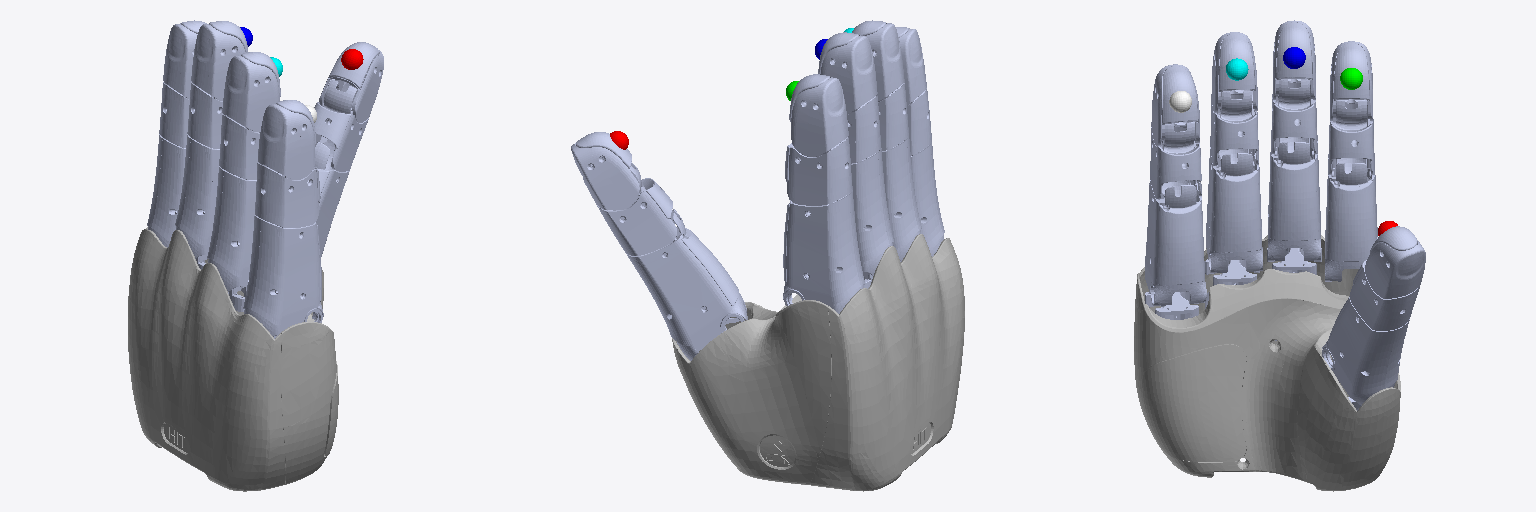
--- What the picture shows (computed from the rendered views, not written in the file) ---
Views: 3 orthographic renders of the robot side by side, from view 1: azimuth 30°, elevation 25°; view 2: azimuth 150°, elevation 25°; view 3: azimuth 270°, elevation 25°.
Robot: right_hand — 31 links, 30 joints (20 revolute, 10 fixed); root link right_hand_base_link; default pose: all joints at 0.
Visible links, largest first — view 1: right_hand_base_link, r_little_Link2, r_ring_Link2, r_mid_Link2, r_little_Link4, r_little_Link3, r_ring_Link4, r_thumb_Link3, r_index_Link2, r_mid_Link4, r_ring_Link3, r_thumb_Link2 (+7 smaller); view 2: right_hand_base_link, r_thumb_Link2, r_index_Link2, r_thumb_Link3, r_mid_Link2, r_index_Link4, r_index_Link3, r_ring_Link2, r_thumb_Link4, r_mid_Link4, r_little_Link2, r_ring_Link4 (+7 smaller); view 3: right_hand_base_link, r_little_Link2, r_ring_Link2, r_mid_Link2, r_index_Link2, r_thumb_Link2, r_little_Link3, r_ring_Link3, r_index_Link3, r_mid_Link3, r_thumb_Link4, r_thumb_Link3 (+12 smaller).
Link boxes in pixels (x1,y1,x2,y2): right_hand_base_link: [128, 227, 338, 491]; r_little_Link2: [243, 215, 323, 336]; r_ring_Link2: [207, 166, 256, 291]; r_mid_Link2: [175, 134, 219, 258]; r_little_Link4: [258, 104, 314, 179]; r_little_Link3: [255, 163, 320, 227]; r_ring_Link4: [222, 55, 279, 132]; r_thumb_Link3: [314, 79, 368, 171]; r_index_Link2: [147, 134, 185, 247]; r_mid_Link4: [191, 24, 245, 100]; r_ring_Link3: [219, 114, 259, 179]; r_thumb_Link2: [314, 134, 349, 256]; right_hand_base_link: [672, 234, 964, 491]; r_thumb_Link2: [627, 209, 747, 360]; r_index_Link2: [783, 190, 864, 313]; r_thumb_Link3: [597, 162, 676, 255]; r_mid_Link2: [851, 148, 893, 275]; r_index_Link4: [791, 77, 848, 156]; r_index_Link3: [785, 137, 852, 205]; r_ring_Link2: [882, 137, 921, 261]; r_thumb_Link4: [571, 143, 639, 209]; r_mid_Link4: [820, 35, 877, 113]; r_little_Link2: [911, 142, 944, 256]; r_ring_Link4: [866, 23, 904, 100]; right_hand_base_link: [1134, 235, 1400, 491]; r_little_Link2: [1145, 180, 1206, 305]; r_ring_Link2: [1206, 147, 1262, 272]; r_mid_Link2: [1268, 135, 1320, 260]; r_index_Link2: [1325, 154, 1377, 281]; r_thumb_Link2: [1322, 296, 1409, 405]; r_little_Link3: [1150, 122, 1201, 198]; r_ring_Link3: [1210, 90, 1258, 165]; r_index_Link3: [1328, 99, 1374, 174]; r_mid_Link3: [1271, 79, 1317, 153]; r_thumb_Link4: [1365, 238, 1425, 298]; r_thumb_Link3: [1350, 260, 1419, 330].
Bounding box of the posed robot: 0.1417 × 0.1276 × 0.2053 m (x, y, z).
30 mesh visuals loaded from 31 distinct referenced files (30 binary STL); not drawn: 1 (reference not matched to a file when rendering).

The robot description file, URDF, robot "right_hand":
<?xml version="1.0"?>
<robot name="right_hand">
<!-- 后续的link、joint等定义将在这里添加 -->
<link
    name="right_hand_base_link">
    <inertial>
      <origin
        xyz="0.00391160608884322 0.00448556353730908 0.0340831709778913"
        rpy="0 0 0" />
      <mass
        value="0.05804100477032" />
      <inertia
        ixx="8.91313181976465E-05"
        ixy="-6.04640652659731E-06"
        ixz="3.71821689962293E-06"
        iyy="5.49150596507255E-05"
        iyz="-2.70983228107086E-06"
        izz="5.61534622447738E-05" />
    </inertial>
    <visual>
      <origin
        xyz="0 0 0"
        rpy="0 0 0" />
      <geometry>
        <mesh
          filename="../meshes/right_hand_base_link.STL" />
      </geometry>
      <material
        name="">
        <color
          rgba="0.752941176470588 0.752941176470588 0.752941176470588 1" />
      </material>
    </visual>
    <collision>
      <origin
        xyz="0 0 0"
        rpy="0 0 0" />
      <geometry>
        <mesh
          filename="../meshes/right_hand_base_link.STL" />
      </geometry>
    </collision>
  </link>


  <link
    name="r_index_Link">
    <inertial>
      <origin
        xyz="1.40772269751482E-06 0.000694750558183271 -0.00514190536442029"
        rpy="0 0 0" />
      <mass
        value="0.00431903565449312" />
      <inertia
        ixx="1.36153741961389E-06"
        ixy="9.7926688192208E-11"
        ixz="4.65697331197809E-12"
        iyy="2.52419403692596E-07"
        iyz="-1.32210382096263E-07"
        izz="1.38757776970107E-06" />
    </inertial>
    <visual>
      <origin
        xyz="0 0 0"
        rpy="0 0 0" />
      <geometry>
        <mesh
          filename="../meshes/r_index_Link.STL" />
      </geometry>
      <material
        name="">
        <color
          rgba="0.752941176470588 0.752941176470588 0.752941176470588 1" />
      </material>
    </visual>
    <collision>
      <origin
        xyz="0 0 0"
        rpy="0 0 0" />
      <geometry>
        <mesh
          filename="../meshes/r_index_Link.STL" />
      </geometry>
    </collision>
  </link>
  <joint
    name="index_joint_Link_r"
    type="fixed">
    <origin
      xyz="-0.0103822553151064 0.0375051922308144 0.0613093829703847"
      rpy="1.65806266442309 0 1.5707963267949" />
    <parent
      link="right_hand_base_link" />
    <child
      link="r_index_Link" />
    <axis
      xyz="0 0 0" />
  </joint>
  <link
    name="r_index_Link1">
    <inertial>
      <origin
        xyz="3.36279767296221E-08 -0.000949758546197055 -0.00979761945346892"
        rpy="0 0 0" />
      <mass
        value="0.000753716554216806" />
      <inertia
        ixx="4.38605309747152E-08"
        ixy="-3.33324396352921E-14"
        ixz="-1.25779733473156E-13"
        iyy="9.49698620695859E-08"
        iyz="-2.45771565297734E-09"
        izz="5.93127496812786E-08" />
    </inertial>
    <visual>
      <origin
        xyz="0 0 0"
        rpy="0 0 0" />
      <geometry>
        <mesh
          filename="../meshes/r_index_Link1.STL" />
      </geometry>
      <material
        name="">
        <color
          rgba="0.792156862745098 0.819607843137255 0.933333333333333 1" />
      </material>
    </visual>
    <collision>
      <origin
        xyz="0 0 0"
        rpy="0 0 0" />
      <geometry>
        <mesh
          filename="../meshes/r_index_Link1.STL" />
      </geometry>
    </collision>
  </link>
  <joint
    name="index_joint_Link_r1"
    type="revolute">
    <origin
      xyz="0 0.02627 0.012021"
      rpy="0 0 0" />
    <parent
      link="r_index_Link" />
    <child
      link="r_index_Link1" />
    <axis
      xyz="0 0 -1" />
    <limit
      lower="-0.35"
      upper="0.35"
      effort="0"
      velocity="0" />
  </joint>
  <link
    name="r_index_Link2">
    <inertial>
      <origin
        xyz="0.024856566164087 -0.00646869536322205 -6.14075742498207E-05"
        rpy="0 0 0" />
      <mass
        value="0.00670640144971691" />
      <inertia
        ixx="2.74479460170706E-07"
        ixy="-5.34656147943623E-08"
        ixz="1.86377740407272E-09"
        iyy="1.64928295568456E-06"
        iyz="-4.93690159001492E-10"
        izz="1.53795924684832E-06" />
    </inertial>
    <visual>
      <origin
        xyz="0 0 0"
        rpy="0 0 0" />
      <geometry>
        <mesh
          filename="../meshes/r_index_Link2.STL" />
      </geometry>
      <material
        name="">
        <color
          rgba="0.792156862745098 0.819607843137255 0.933333333333333 1" />
      </material>
    </visual>
    <collision>
      <origin
        xyz="0 0 0"
        rpy="0 0 0" />
      <geometry>
        <mesh
          filename="../meshes/r_index_Link2.STL" />
      </geometry>
    </collision>
  </link>
  <joint
    name="index_joint_Link_r2"
    type="revolute">
    <origin
      xyz="0 0 0"
      rpy="1.5708 0.085664 1.5708" />
    <parent
      link="r_index_Link1" />
    <child
      link="r_index_Link2" />
    <axis
      xyz="0 0 1" />
    <limit
      lower="0"
      upper="1.48"
      effort="0"
      velocity="0" />
  </joint>
  <link
    name="r_index_Link3">
    <inertial>
      <origin
        xyz="0.0118307803985283 -0.00648694607574674 -0.000796162578510826"
        rpy="0 0 0" />
      <mass
        value="0.00348556483804973" />
      <inertia
        ixx="9.92805057586549E-08"
        ixy="2.41258690952191E-08"
        ixz="-5.74560102307089E-09"
        iyy="3.52536489398498E-07"
        iyz="1.97293094024626E-10"
        izz="3.29212834878614E-07" />
    </inertial>
    <visual>
      <origin
        xyz="0 0 0"
        rpy="0 0 0" />
      <geometry>
        <mesh
          filename="../meshes/r_index_Link3.STL" />
      </geometry>
      <material
        name="">
        <color
          rgba="0.792156862745098 0.819607843137255 0.933333333333333 1" />
      </material>
    </visual>
    <collision>
      <origin
        xyz="0 0 0"
        rpy="0 0 0" />
      <geometry>
        <mesh
          filename="../meshes/r_index_Link3.STL" />
      </geometry>
    </collision>
  </link>
  <joint
    name="index_joint_Link_r3"
    type="revolute">
    <origin
      xyz="0.051996 -0.00027708 0"
      rpy="0 0 0.085664" />
    <parent
      link="r_index_Link2" />
    <child
      link="r_index_Link3" />
    <axis
      xyz="0 0 1" />
    <limit
      lower="0"
      upper="1.4"
      effort="0"
      velocity="0" />
  </joint>
  <link
    name="r_index_Link4">
    <inertial>
      <origin
        xyz="0.0113404372697323 -0.00167958619198047 -0.000220244239396365"
        rpy="0 0 0" />
      <mass
        value="0.00286590326282756" />
      <inertia
        ixx="1.43022179569981E-07"
        ixy="1.98729010946548E-08"
        ixz="-6.94917459018936E-09"
        iyy="2.98349815549781E-07"
        iyz="5.48901986574559E-10"
        izz="2.23361577561817E-07" />
    </inertial>
    <visual>
      <origin
        xyz="0 0 0"
        rpy="0 0 0" />
      <geometry>
        <mesh
          filename="../meshes/r_index_Link4.STL" />
      </geometry>
      <material
        name="">
        <color
          rgba="0.792156862745098 0.819607843137255 0.933333333333333 1" />
      </material>
    </visual>
    <collision>
      <origin
        xyz="0 0 0"
        rpy="0 0 0" />
      <geometry>
        <mesh
          filename="../meshes/r_index_Link4.STL" />
      </geometry>
    </collision>
  </link>
  <joint
    name="index_joint_Link_r4"
    type="revolute">
    <origin
      xyz="0.026928 -0.0076747 0"
      rpy="0 0 0" />
    <parent
      link="r_index_Link3" />
    <child
      link="r_index_Link4" />
    <axis
      xyz="0 0 1" />
    <limit
      lower="0"
      upper="1.4"
      effort="0"
      velocity="0" />
  </joint>
  <link
    name="r_index_Link5">
    <inertial>
      <origin
        xyz="0.00181569960563305 -0.00401759470056604 -1.73942399137039E-06"
        rpy="0 0 0" />
      <mass
        value="0.000450710583141384" />
      <inertia
        ixx="1.88812291416615E-08"
        ixy="1.04173783141532E-08"
        ixz="1.05243210031501E-12"
        iyy="2.21563214884092E-08"
        iyz="-4.53245467007608E-12"
        izz="2.55181321608876E-08" />
    </inertial>
    <visual>
      <origin
        xyz="0 0 0"
        rpy="0 0 0" />
      <geometry>
        <mesh
          filename="../meshes/r_index_Link5.STL" />
      </geometry>
      <material
        name="">
        <color
          rgba="0.792156862745098 0.819607843137255 0.933333333333333 1" />
      </material>
    </visual>

    <!-- Add fingertip sphere -->
    <visual>
      <origin xyz="0 0 0" rpy="0 0 0" /> <!-- Positioning the sphere slightly from the tip -->
      <geometry>
        <sphere radius="0.005" /> <!-- Radius of the sphere, 5mm -->
      </geometry>
      <material name="green">
        <color rgba="0 1 0 1" /> <!-- Red color for the fingertip -->
      </material>
    </visual>
  
    <collision>
      <origin
        xyz="0 0 0"
        rpy="0 0 0" />
      <geometry>
        <mesh
          filename="../meshes/r_index_Link5.STL" />
      </geometry>
    </collision>
  </link>
  <joint
    name="index_joint_Link_r5"
    type="fixed">
    <origin
      xyz="0.015969 0.0093937 0"
      rpy="0 0 0" />
    <parent
      link="r_index_Link4" />
    <child
      link="r_index_Link5" />
    <axis
      xyz="0 0 0" />
  </joint>
  <link
    name="r_mid_Link">
    <inertial>
      <origin
        xyz="1.40734689794975E-06 0.000694753407640344 -0.00514190377968304"
        rpy="0 0 0" />
      <mass
        value="0.00431903652366697" />
      <inertia
        ixx="1.36153765292187E-06"
        ixy="9.79511055730686E-11"
        ixz="4.67011748284453E-12"
        iyy="2.52419454902548E-07"
        iyz="-1.32210483173002E-07"
        izz="1.38757795837307E-06" />
    </inertial>
    <visual>
      <origin
        xyz="0 0 0"
        rpy="0 0 0" />
      <geometry>
        <mesh
          filename="../meshes/r_mid_Link.STL" />
      </geometry>
      <material
        name="">
        <color
          rgba="0.792156862745098 0.819607843137255 0.933333333333333 1" />
      </material>
    </visual>
    <collision>
      <origin
        xyz="0 0 0"
        rpy="0 0 0" />
      <geometry>
        <mesh
          filename="../meshes/r_mid_Link.STL" />
      </geometry>
    </collision>
  </link>
  <joint
    name="mid_joint_Link_r"
    type="fixed">
    <origin
      xyz="-0.0103822553151064 0.0125051922308144 0.0713093829703847"
      rpy="1.65806266442309 0 1.5707963267949" />
    <parent
      link="right_hand_base_link" />
    <child
      link="r_mid_Link" />
    <axis
      xyz="0 0 0" />
  </joint>
  <link
    name="r_mid_Link1">
    <inertial>
      <origin
        xyz="3.36374291615149E-08 -0.000949758546365281 -0.00979761945009709"
        rpy="0 0 0" />
      <mass
        value="0.000753716553118287" />
      <inertia
        ixx="4.386053097916E-08"
        ixy="-3.32943076710991E-14"
        ixz="-1.25753824577688E-13"
        iyy="9.49698621336344E-08"
        iyz="-2.45771565647132E-09"
        izz="5.93127497638759E-08" />
    </inertial>
    <visual>
      <origin
        xyz="0 0 0"
        rpy="0 0 0" />
      <geometry>
        <mesh
          filename="../meshes/r_mid_Link1.STL" />
      </geometry>
      <material
        name="">
        <color
          rgba="0.792156862745098 0.819607843137255 0.933333333333333 1" />
      </material>
    </visual>
    <collision>
      <origin
        xyz="0 0 0"
        rpy="0 0 0" />
      <geometry>
        <mesh
          filename="../meshes/r_mid_Link1.STL" />
      </geometry>
    </collision>
  </link>
  <joint
    name="mid_joint_Link_r1"
    type="revolute">
    <origin
      xyz="0 0.02627 0.012021"
      rpy="0 0 0" />
    <parent
      link="r_mid_Link" />
    <child
      link="r_mid_Link1" />
    <axis
      xyz="0 0 -1" />
    <limit
      lower="-0.35"
      upper="0.35"
      effort="0"
      velocity="0" />
  </joint>
  <link
    name="r_mid_Link2">
    <inertial>
      <origin
        xyz="0.0248565660487101 -0.0064686956840581 -6.14072578129787E-05"
        rpy="0 0 0" />
      <mass
        value="0.00670640167039344" />
      <inertia
        ixx="2.7447947098352E-07"
        ixy="-5.34656206804511E-08"
        ixz="1.86377693304953E-09"
        iyy="1.64928295941372E-06"
        iyz="-4.9369088910234E-10"
        izz="1.53795926127141E-06" />
    </inertial>
    <visual>
      <origin
        xyz="0 0 0"
        rpy="0 0 0" />
      <geometry>
        <mesh
          filename="../meshes/r_mid_Link2.STL" />
      </geometry>
      <material
        name="">
        <color
          rgba="0.792156862745098 0.819607843137255 0.933333333333333 1" />
      </material>
    </visual>
    <collision>
      <origin
        xyz="0 0 0"
        rpy="0 0 0" />
      <geometry>
        <mesh
          filename="../meshes/r_mid_Link2.STL" />
      </geometry>
    </collision>
  </link>
  <joint
    name="mid_joint_Link_r2"
    type="revolute">
    <origin
      xyz="0 0 0"
      rpy="1.5708 0.085664 1.5708" />
    <parent
      link="r_mid_Link1" />
    <child
      link="r_mid_Link2" />
    <axis
      xyz="0 0 1" />
    <limit
      lower="0"
      upper="1.48"
      effort="0"
      velocity="0" />
  </joint>
  <link
    name="r_mid_Link3">
    <inertial>
      <origin
        xyz="0.0118307806735845 -0.00648694588441903 -0.00079616260307093"
        rpy="0 0 0" />
      <mass
        value="0.00348556469916572" />
      <inertia
        ixx="9.92805063224001E-08"
        ixy="2.41258687642837E-08"
        ixz="-5.74560039016165E-09"
        iyy="3.52536482867362E-07"
        iyz="1.97293601740165E-10"
        izz="3.29212828031843E-07" />
    </inertial>
    <visual>
      <origin
        xyz="0 0 0"
        rpy="0 0 0" />
      <geometry>
        <mesh
          filename="../meshes/r_mid_Link3.STL" />
      </geometry>
      <material
        name="">
        <color
          rgba="0.792156862745098 0.819607843137255 0.933333333333333 1" />
      </material>
    </visual>
    <collision>
      <origin
        xyz="0 0 0"
        rpy="0 0 0" />
      <geometry>
        <mesh
          filename="../meshes/r_mid_Link3.STL" />
      </geometry>
    </collision>
  </link>
  <joint
    name="mid_joint_Link_r3"
    type="revolute">
    <origin
      xyz="0.051996 -0.00027708 0"
      rpy="0 0 0.085664" />
    <parent
      link="r_mid_Link2" />
    <child
      link="r_mid_Link3" />
    <axis
      xyz="0 0 1" />
    <limit
      lower="0"
      upper="1.4"
      effort="0"
      velocity="0" />
  </joint>
  <link
    name="r_mid_Link4">
    <inertial>
      <origin
        xyz="0.0113404372697324 -0.00167958619198134 -0.000220244239396788"
        rpy="0 0 0" />
      <mass
        value="0.00286590326282753" />
      <inertia
        ixx="1.43022179570016E-07"
        ixy="1.98729010947097E-08"
        ixz="-6.94917459018936E-09"
        iyy="2.98349815549752E-07"
        iyz="5.48901986578988E-10"
        izz="2.23361577561831E-07" />
    </inertial>
    <visual>
      <origin
        xyz="0 0 0"
        rpy="0 0 0" />
      <geometry>
        <mesh
          filename="../meshes/r_mid_Link4.STL" />
      </geometry>
      <material
        name="">
        <color
          rgba="0.792156862745098 0.819607843137255 0.933333333333333 1" />
      </material>
    </visual>
    <collision>
      <origin
        xyz="0 0 0"
        rpy="0 0 0" />
      <geometry>
        <mesh
          filename="../meshes/r_mid_Link4.STL" />
      </geometry>
    </collision>
  </link>
  <joint
    name="mid_joint_Link_r4"
    type="revolute">
    <origin
      xyz="0.026928 -0.0076747 0"
      rpy="0 0 0" />
    <parent
      link="r_mid_Link3" />
    <child
      link="r_mid_Link4" />
    <axis
      xyz="0 0 1" />
    <limit
      lower="0"
      upper="1.4"
      effort="0"
      velocity="0" />
  </joint>
  <link
    name="r_mid_Link5">
    <inertial>
      <origin
        xyz="0.00181569960563313 -0.00401759470056587 -1.7394239911761E-06"
        rpy="0 0 0" />
      <mass
        value="0.000450710583141373" />
      <inertia
        ixx="1.88812291416604E-08"
        ixy="1.04173783141527E-08"
        ixz="1.05243210055251E-12"
        iyy="2.21563214884085E-08"
        iyz="-4.53245467039529E-12"
        izz="2.55181321608863E-08" />
    </inertial>
    <visual>
      <origin
        xyz="0 0 0"
        rpy="0 0 0" />
      <geometry>
        <mesh
          filename="../meshes/r_mid_Link5.STL" />
      </geometry>
      <material
        name="">
        <color
          rgba="0.792156862745098 0.819607843137255 0.933333333333333 1" />
      </material>
    </visual>

    <!-- Add fingertip sphere -->
    <visual>
      <origin xyz="0 0 0" rpy="0 0 0" /> <!-- Positioning the sphere slightly from the tip -->
      <geometry>
        <sphere radius="0.005" /> <!-- Radius of the sphere, 5mm -->
      </geometry>
      <material name="blue">
        <color rgba="0 0 1 1" /> <!-- Red color for the fingertip -->
      </material>
    </visual>

    <collision>
      <origin
        xyz="0 0 0"
        rpy="0 0 0" />
      <geometry>
        <mesh
          filename="../meshes/r_mid_Link5.STL" />
      </geometry>
    </collision>
  </link>
  <joint
    name="mid_joint_Link_r5"
    type="fixed">
    <origin
      xyz="0.0159685314889383 0.00939365856358672 0"
      rpy="0 0 0" />
    <parent
      link="r_mid_Link4" />
    <child
      link="r_mid_Link5" />
    <axis
      xyz="0 0 0" />
  </joint>
  <link
    name="r_ring_Link">
    <inertial>
      <origin
        xyz="1.4081463746568E-06 0.000694751167352098 -0.00514190259280253"
        rpy="0 0 0" />
      <mass
        value="0.00431903596206097" />
      <inertia
        ixx="1.36153753422029E-06"
        ixy="9.78712674448195E-11"
        ixz="4.71086666899664E-12"
        iyy="2.52419494869348E-07"
        iyz="-1.3221055399997E-07"
        izz="1.38757778737741E-06" />
    </inertial>
    <visual>
      <origin
        xyz="0 0 0"
        rpy="0 0 0" />
      <geometry>
        <mesh
          filename="../meshes/r_ring_Link.STL" />
      </geometry>
      <material
        name="">
        <color
          rgba="0.792156862745098 0.819607843137255 0.933333333333333 1" />
      </material>
    </visual>
    <collision>
      <origin
        xyz="0 0 0"
        rpy="0 0 0" />
      <geometry>
        <mesh
          filename="../meshes/r_ring_Link.STL" />
      </geometry>
    </collision>
  </link>
  <joint
    name="ring_joint_Link_r"
    type="fixed">
    <origin
      xyz="-0.0091687 -0.014221 0.066309"
      rpy="1.6581 0 1.6582" />
    <parent
      link="right_hand_base_link" />
    <child
      link="r_ring_Link" />
    <axis
      xyz="0 0 0" />
  </joint>
  <link
    name="r_ring_Link1">
    <inertial>
      <origin
        xyz="2.37358247223707E-08 -0.000949758224484995 -0.00979761991811526"
        rpy="0 0 0" />
      <mass
        value="0.000753716414191309" />
      <inertia
        ixx="4.38605328503131E-08"
        ixy="-2.46710673237958E-14"
        ixz="-1.01364693007023E-13"
        iyy="9.49698617614435E-08"
        iyz="-2.45771601251918E-09"
        izz="5.93127477633958E-08" />
    </inertial>
    <visual>
      <origin
        xyz="0 0 0"
        rpy="0 0 0" />
      <geometry>
        <mesh
          filename="../meshes/r_ring_Link1.STL" />
      </geometry>
      <material
        name="">
        <color
          rgba="0.792156862745098 0.819607843137255 0.933333333333333 1" />
      </material>
    </visual>
    <collision>
      <origin
        xyz="0 0 0"
        rpy="0 0 0" />
      <geometry>
        <mesh
          filename="../meshes/r_ring_Link1.STL" />
      </geometry>
    </collision>
  </link>
  <joint
    name="ring_joint_Link_r1"
    type="revolute">
    <origin
      xyz="0 0.02627 0.012021"
      rpy="0 0 0" />
    <parent
      link="r_ring_Link" />
    <child
      link="r_ring_Link1" />
    <axis
      xyz="0 0 -1" />
    <limit
      lower="-0.35"
      upper="0.35"
      effort="0"
      velocity="0" />
  </joint>
  <link
    name="r_ring_Link2">
    <inertial>
      <origin
        xyz="0.0248566382390737 -0.00646877533874726 -6.12887386269856E-05"
        rpy="0 0 0" />
      <mass
        value="0.0067064348432748" />
      <inertia
        ixx="2.74476666323832E-07"
        ixy="-5.34726783492085E-08"
        ixz="1.86744926076536E-09"
        iyy="1.64928770846785E-06"
        iyz="-4.96366436099556E-10"
        izz="1.53796806986171E-06" />
    </inertial>
    <visual>
      <origin
        xyz="0 0 0"
        rpy="0 0 0" />
      <geometry>
        <mesh
          filename="../meshes/r_ring_Link2.STL" />
      </geometry>
      <material
        name="">
        <color
          rgba="0.792156862745098 0.819607843137255 0.933333333333333 1" />
      </material>
    </visual>
    <collision>
      <origin
        xyz="0 0 0"
        rpy="0 0 0" />
      <geometry>
        <mesh
          filename="../meshes/r_ring_Link2.STL" />
      </geometry>
    </collision>
  </link>
  <joint
    name="ring_joint_Link_r2"
    type="revolute">
    <origin
      xyz="0 0 0"
      rpy="1.5708 0.085664 1.5708" />
    <parent
      link="r_ring_Link1" />
    <child
      link="r_ring_Link2" />
    <axis
      xyz="0 0 1" />
    <limit
      lower="0"
      upper="1.48"
      effort="0"
      velocity="0" />
  </joint>
  <link
    name="r_ring_Link3">
    <inertial>
      <origin
        xyz="0.0118307298664946 -0.00648704260697541 -0.000796133654823936"
        rpy="0 0 0" />
      <mass
        value="0.00348561291517494" />
      <inertia
        ixx="9.92834585384601E-08"
        ixy="2.41267862410674E-08"
        ixz="-5.74508054907317E-09"
        iyy="3.52541207017489E-07"
        iyz="1.97002319666101E-10"
        izz="3.29215822821692E-07" />
    </inertial>
    <visual>
      <origin
        xyz="0 0 0"
        rpy="0 0 0" />
      <geometry>
        <mesh
          filename="../meshes/r_ring_Link3.STL" />
      </geometry>
      <material
        name="">
        <color
          rgba="0.792156862745098 0.819607843137255 0.933333333333333 1" />
      </material>
    </visual>
    <collision>
      <origin
        xyz="0 0 0"
        rpy="0 0 0" />
      <geometry>
        <mesh
          filename="../meshes/r_ring_Link3.STL" />
      </geometry>
    </collision>
  </link>
  <joint
    name="ring_joint_Link_r3"
    type="revolute">
    <origin
      xyz="0.051996 -0.00027708 0"
      rpy="0 0 0.085664" />
    <parent
      link="r_ring_Link2" />
    <child
      link="r_ring_Link3" />
    <axis
      xyz="0 0 1" />
    <limit
      lower="0"
      upper="1.4"
      effort="0"
      velocity="0" />
  </joint>
  <link
    name="r_ring_Link4">
    <inertial>
      <origin
        xyz="0.0113403904097355 -0.00167959830494618 -0.000220240319862355"
        rpy="0 0 0" />
      <mass
        value="0.00286588485581286" />
      <inertia
        ixx="1.43021809770463E-07"
        ixy="1.98728275044481E-08"
        ixz="-6.94924248279532E-09"
        iyy="2.98348498308951E-07"
        iyz="5.4897755005092E-10"
        izz="2.23359872648577E-07" />
    </inertial>
    <visual>
      <origin
        xyz="0 0 0"
        rpy="0 0 0" />
      <geometry>
        <mesh
          filename="../meshes/r_ring_Link4.STL" />
      </geometry>
      <material
        name="">
        <color
          rgba="0.792156862745098 0.819607843137255 0.933333333333333 1" />
      </material>
    </visual>
    <collision>
      <origin
        xyz="0 0 0"
        rpy="0 0 0" />
      <geometry>
        <mesh
          filename="../meshes/r_ring_Link4.STL" />
      </geometry>
    </collision>
  </link>
  <joint
    name="ring_joint_Link_r4"
    type="revolute">
    <origin
      xyz="0.026928 -0.0076747 0"
      rpy="0 0 0" />
    <parent
      link="r_ring_Link3" />
    <child
      link="r_ring_Link4" />
    <axis
      xyz="0 0 1" />
    <limit
      lower="0"
      upper="1.4"
      effort="0"
      velocity="0" />
  </joint>
  <link
    name="r_ring_Link5">
    <inertial>
      <origin
        xyz="0.00181570080619201 -0.00401778531920312 -1.80091041671049E-06"
        rpy="0 0 0" />
      <mass
        value="0.000450714747271973" />
      <inertia
        ixx="1.88820708482565E-08"
        ixy="1.04176728214793E-08"
        ixz="1.5299220221432E-12"
        iyy="2.21560954057769E-08"
        iyz="-4.68235050476128E-12"
        izz="2.55189481762222E-08" />
    </inertial>
    <visual>
      <origin
        xyz="0 0 0"
        rpy="0 0 0" />
      <geometry>
        <mesh
          filename="../meshes/r_ring_Link5.STL" />
      </geometry>
      <material
        name="">
        <color
          rgba="0.792156862745098 0.819607843137255 0.933333333333333 1" />
      </material>
    </visual>

    <!-- Add fingertip sphere -->
    <visual>
      <origin xyz="0 0 0" rpy="0 0 0" /> <!-- Positioning the sphere slightly from the tip -->
      <geometry>
        <sphere radius="0.005" /> <!-- Radius of the sphere, 5mm -->
      </geometry>
      <material name="cyan">
        <color rgba="0 1 1 1" /> <!-- Red color for the fingertip -->
      </material>
    </visual>

    <collision>
      <origin
        xyz="0 0 0"
        rpy="0 0 0" />
      <geometry>
        <mesh
          filename="../meshes/r_ring_Link5.STL" />
      </geometry>
    </collision>
  </link>
  <joint
    name="ring_joint_Link_r5"
    type="fixed">
    <origin
      xyz="0.015968530891711 0.00939365572937095 0"
      rpy="0 0 0" />
    <parent
      link="r_ring_Link4" />
    <child
      link="r_ring_Link5" />
    <axis
      xyz="0 0 0" />
  </joint>
  <link
    name="r_little_Link">
    <inertial>
      <origin
        xyz="1.42050090018442E-06 0.000694714899473051 -0.00514189726990826"
        rpy="0 0 0" />
      <mass
        value="0.004319028054173" />
      <inertia
        ixx="1.36153454017162E-06"
        ixy="9.68833946461463E-11"
        ixz="4.84047453253449E-12"
        iyy="2.5241931490128E-07"
        iyz="-1.32210946895328E-07"
        izz="1.38757440201909E-06" />
    </inertial>
    <visual>
      <origin
        xyz="0 0 0"
        rpy="0 0 0" />
      <geometry>
        <mesh
          filename="../meshes/r_little_Link.STL" />
      </geometry>
      <material
        name="">
        <color
          rgba="0.792156862745098 0.819607843137255 0.933333333333333 1" />
      </material>
    </visual>
    <collision>
      <origin
        xyz="0 0 0"
        rpy="0 0 0" />
      <geometry>
        <mesh
          filename="../meshes/r_little_Link.STL" />
      </geometry>
    </collision>
  </link>
  <joint
    name="little_joint_Link_r"
    type="fixed">
    <origin
      xyz="-0.0056537 -0.040608 0.052309"
      rpy="1.6581 0 1.7453" />
    <parent
      link="right_hand_base_link" />
    <child
      link="r_little_Link" />
    <axis
      xyz="0 0 0" />
  </joint>
  <link
    name="r_little_Link1">
    <inertial>
      <origin
        xyz="2.15894949695539E-08 -0.000949758106968637 -0.00979761991353562"
        rpy="0 0 0" />
      <mass
        value="0.000753716389758328" />
      <inertia
        ixx="4.38605340572183E-08"
        ixy="-2.26679214914407E-14"
        ixz="-9.58623651606205E-14"
        iyy="9.49698625622802E-08"
        iyz="-2.45771620744386E-09"
        izz="5.93127473067216E-08" />
    </inertial>
    <visual>
      <origin
        xyz="0 0 0"
        rpy="0 0 0" />
      <geometry>
        <mesh
          filename="../meshes/r_little_Link1.STL" />
      </geometry>
      <material
        name="">
        <color
          rgba="0.792156862745098 0.819607843137255 0.933333333333333 1" />
      </material>
    </visual>
    <collision>
      <origin
        xyz="0 0 0"
        rpy="0 0 0" />
      <geometry>
        <mesh
          filename="../meshes/r_little_Link1.STL" />
      </geometry>
    </collision>
  </link>
  <joint
    name="little_joint_Link_r1"
    type="revolute">
    <origin
      xyz="0 0.02627 0.012021"
      rpy="0 0 0" />
    <parent
      link="r_little_Link" />
    <child
      link="r_little_Link1" />
    <axis
      xyz="0 0 -1" />
    <limit
      lower="-0.35"
      upper="0.35"
      effort="0"
      velocity="0" />
  </joint>
  <link
    name="r_little_Link2">
    <inertial>
      <origin
        xyz="0.0248564769107584 -0.00646876198903065 -6.13644604522678E-05"
        rpy="0 0 0" />
      <mass
        value="0.00670637145311763" />
      <inertia
        ixx="2.7447645450594E-07"
        ixy="-5.34712406453469E-08"
        ixz="1.86603038908778E-09"
        iyy="1.64927497768253E-06"
        iyz="-4.96714806591044E-10"
        izz="1.53795489026956E-06" />
    </inertial>
    <visual>
      <origin
        xyz="0 0 0"
        rpy="0 0 0" />
      <geometry>
        <mesh
          filename="../meshes/r_little_Link2.STL" />
      </geometry>
      <material
        name="">
        <color
          rgba="0.792156862745098 0.819607843137255 0.933333333333333 1" />
      </material>
    </visual>
    <collision>
      <origin
        xyz="0 0 0"
        rpy="0 0 0" />
      <geometry>
        <mesh
          filename="../meshes/r_little_Link2.STL" />
      </geometry>
    </collision>
  </link>
  <joint
    name="little_joint_Link_r2"
    type="revolute">
    <origin
      xyz="0 0 0"
      rpy="1.5708 0.085664 1.5708" />
    <parent
      link="r_little_Link1" />
    <child
      link="r_little_Link2" />
    <axis
      xyz="0 0 1" />
    <limit
      lower="0"
      upper="1.48"
      effort="0"
      velocity="0" />
  </joint>
  <link
    name="r_little_Link3">
    <inertial>
      <origin
        xyz="0.0118306833642413 -0.00648709457718372 -0.000796095260003515"
        rpy="0 0 0" />
      <mass
        value="0.00348563987405049" />
      <inertia
        ixx="9.92853938648564E-08"
        ixy="2.41275611037349E-08"
        ixz="-5.74450060429606E-09"
        iyy="3.52544949293293E-07"
        iyz="1.96646642894716E-10"
        izz="3.29218628340624E-07" />
    </inertial>
    <visual>
      <origin
        xyz="0 0 0"
        rpy="0 0 0" />
      <geometry>
        <mesh
          filename="../meshes/r_little_Link3.STL" />
      </geometry>
      <material
        name="">
        <color
          rgba="0.792156862745098 0.819607843137255 0.933333333333333 1" />
      </material>
    </visual>
    <collision>
      <origin
        xyz="0 0 0"
        rpy="0 0 0" />
      <geometry>
        <mesh
          filename="../meshes/r_little_Link3.STL" />
      </geometry>
    </collision>
  </link>
  <joint
    name="little_joint_Link_r3"
    type="revolute">
    <origin
      xyz="0.051996 -0.00027708 0"
      rpy="0 0 0.085664" />
    <parent
      link="r_little_Link2" />
    <child
      link="r_little_Link3" />
    <axis
      xyz="0 0 1" />
    <limit
      lower="0"
      upper="1.4"
      effort="0"
      velocity="0" />
  </joint>
  <link
    name="r_little_Link4">
    <inertial>
      <origin
        xyz="0.0113403185277721 -0.0016796111772258 -0.000220254538239317"
        rpy="0 0 0" />
      <mass
        value="0.00286585884070719" />
      <inertia
        ixx="1.43021563903845E-07"
        ixy="1.98727848616427E-08"
        ixz="-6.94900725101426E-09"
        iyy="2.98346315731695E-07"
        iyz="5.48937371833117E-10"
        izz="2.2335704802703E-07" />
    </inertial>
    <visual>
      <origin
        xyz="0 0 0"
        rpy="0 0 0" />
      <geometry>
        <mesh
          filename="../meshes/r_little_Link4.STL" />
      </geometry>
      <material
        name="">
        <color
          rgba="0.792156862745098 0.819607843137255 0.933333333333333 1" />
      </material>
    </visual>
    <collision>
      <origin
        xyz="0 0 0"
        rpy="0 0 0" />
      <geometry>
        <mesh
          filename="../meshes/r_little_Link4.STL" />
      </geometry>
    </collision>
  </link>
  <joint
    name="little_joint_Link_r4"
    type="revolute">
    <origin
      xyz="0.026928 -0.0076747 0"
      rpy="0 0 0" />
    <parent
      link="r_little_Link3" />
    <child
      link="r_little_Link4" />
    <axis
      xyz="0 0 1" />
    <limit
      lower="0"
      upper="1.4"
      effort="0"
      velocity="0" />
  </joint>
  <link
    name="r_little_Link5">
    <inertial>
      <origin
        xyz="0.00181874106074698 -0.00401838241116451 -1.86622306494466E-06"
        rpy="0 0 0" />
      <mass
        value="0.000450782444799643" />
      <inertia
        ixx="1.88768445250863E-08"
        ixy="1.04237526864194E-08"
        ixz="4.39707430489258E-12"
        iyy="2.21673292618662E-08"
        iyz="-4.81878102585485E-12"
        izz="2.55256969047996E-08" />
    </inertial>
    <visual>
      <origin
        xyz="0 0 0"
        rpy="0 0 0" />
      <geometry>
        <mesh
          filename="../meshes/r_little_Link5.STL" />
      </geometry>
      <material
        name="">
        <color
          rgba="0.792156862745098 0.819607843137255 0.933333333333333 1" />
      </material>
    </visual>

    <!-- Add fingertip sphere -->
    <visual>
      <origin xyz="0 0 0" rpy="0 0 0" /> <!-- Positioning the sphere slightly from the tip -->
      <geometry>
        <sphere radius="0.005" /> <!-- Radius of the sphere, 5mm -->
      </geometry>
      <material name="white">
        <color rgba="1 1 1 1" /> <!-- Red color for the fingertip -->
      </material>
    </visual>


    <collision>
      <origin
        xyz="0 0 0"
        rpy="0 0 0" />
      <geometry>
        <mesh
          filename="../meshes/r_little_Link5.STL" />
      </geometry>
    </collision>
  </link>
  <joint
    name="little_joint_Link_r5"
    type="fixed">
    <origin
      xyz="0.015969 0.0093937 0"
      rpy="0 0 0" />
    <parent
      link="r_little_Link4" />
    <child
      link="r_little_Link5" />
    <axis
      xyz="0 0 0" />
  </joint>
  <link
    name="r_thumb_Link">
    <inertial>
      <origin
        xyz="1.40230579113998E-06 0.000694866580801756 -0.0051418706859027"
        rpy="0 0 0" />
      <mass
        value="0.00431907969119648" />
      <inertia
        ixx="1.36154522060291E-06"
        ixy="9.82217148500541E-11"
        ixz="4.26043688365416E-12"
        iyy="2.52421751589446E-07"
        iyz="-1.32212410037383E-07"
        izz="1.38758491653064E-06" />
    </inertial>
    <visual>
      <origin
        xyz="0 0 0"
        rpy="0 0 0" />
      <geometry>
        <mesh
          filename="../meshes/r_thumb_Link.STL" />
      </geometry>
      <material
        name="">
        <color
          rgba="0.792156862745098 0.819607843137255 0.933333333333333 1" />
      </material>
    </visual>
    <collision>
      <origin
        xyz="0 0 0"
        rpy="0 0 0" />
      <geometry>
        <mesh
          filename="../meshes/r_thumb_Link.STL" />
      </geometry>
    </collision>
  </link>
  <joint
    name="thumb_joint_Link_r"
    type="fixed">
    <origin
      xyz="0.037455 0.038919 0.036487"
      rpy="1.0464 0.13138 -1.028" />
    <parent
      link="right_hand_base_link" />
    <child
      link="r_thumb_Link" />
    <axis
      xyz="0 0 0" />
  </joint>
  <link
    name="r_thumb_Link1">
    <inertial>
      <origin
        xyz="3.22604621766365E-08 -0.000949747733313883 -0.00979761254277101"
        rpy="0 0 0" />
      <mass
        value="0.000753717400818628" />
      <inertia
        ixx="4.38605857598433E-08"
        ixy="-3.40727981863525E-14"
        ixz="-1.23969753730443E-13"
        iyy="9.49699418347735E-08"
        iyz="-2.45773050203307E-09"
        izz="5.93127937062483E-08" />
    </inertial>
    <visual>
      <origin
        xyz="0 0 0"
        rpy="0 0 0" />
      <geometry>
        <mesh
          filename="../meshes/r_thumb_Link1.STL" />
      </geometry>
      <material
        name="">
        <color
          rgba="0.792156862745098 0.819607843137255 0.933333333333333 1" />
      </material>
    </visual>
    <collision>
      <origin
        xyz="0 0 0"
        rpy="0 0 0" />
      <geometry>
        <mesh
          filename="../meshes/r_thumb_Link1.STL" />
      </geometry>
    </collision>
  </link>
  <joint
    name="thumb_joint_Link_r1"
    type="revolute">
    <origin
      xyz="0 0.02627 0.012021"
      rpy="0 0 0" />
    <parent
      link="r_thumb_Link" />
    <child
      link="r_thumb_Link1" />
    <axis
      xyz="0 0 -1" />
    <limit
      lower="-0.35"
      upper="0.35"
      effort="0"
      velocity="0" />
  </joint>
  <link
    name="r_thumb_Link2">
    <inertial>
      <origin
        xyz="0.0248568497250459 -0.00646907137785471 -6.15035729938651E-05"
        rpy="0 0 0" />
      <mass
        value="0.00670654684315945" />
      <inertia
        ixx="2.74500895212551E-07"
        ixy="-5.34783564039926E-08"
        ixz="1.86231344794769E-09"
        iyy="1.64930255301144E-06"
        iyz="-4.95590499552161E-10"
        izz="1.53797397436188E-06" />
    </inertial>
    <visual>
      <origin
        xyz="0 0 0"
        rpy="0 0 0" />
      <geometry>
        <mesh
          filename="../meshes/r_thumb_Link2.STL" />
      </geometry>
      <material
        name="">
        <color
          rgba="0.792156862745098 0.819607843137255 0.933333333333333 1" />
      </material>
    </visual>
    <collision>
      <origin
        xyz="0 0 0"
        rpy="0 0 0" />
      <geometry>
        <mesh
          filename="../meshes/r_thumb_Link2.STL" />
      </geometry>
    </collision>
  </link>
  <joint
    name="thumb_joint_Link_r2"
    type="revolute">
    <origin
      xyz="0 0 0"
      rpy="1.5708 0.085664 1.5708" />
    <parent
      link="r_thumb_Link1" />
    <child
      link="r_thumb_Link2" />
    <axis
      xyz="0 0 1" />
    <limit
      lower="0"
      upper="1.48"
      effort="0"
      velocity="0" />
  </joint>
  <link
    name="r_thumb_Link3">
    <inertial>
      <origin
        xyz="0.0118298307091936 -0.00648739344702763 -0.00079626241049921"
        rpy="0 0 0" />
      <mass
        value="0.00348588809466915" />
      <inertia
        ixx="9.93154473247615E-08"
        ixy="2.41415494923171E-08"
        ixz="-5.7340116329816E-09"
        iyy="3.52589557924725E-07"
        iyz="1.96372787397589E-10"
        izz="3.29253526781633E-07" />
    </inertial>
    <visual>
      <origin
        xyz="0 0 0"
        rpy="0 0 0" />
      <geometry>
        <mesh
          filename="../meshes/r_thumb_Link3.STL" />
      </geometry>
      <material
        name="">
        <color
          rgba="0.792156862745098 0.819607843137255 0.933333333333333 1" />
      </material>
    </visual>
    <collision>
      <origin
        xyz="0 0 0"
        rpy="0 0 0" />
      <geometry>
        <mesh
          filename="../meshes/r_thumb_Link3.STL" />
      </geometry>
    </collision>
  </link>
  <joint
    name="thumb_joint_Link_r3"
    type="revolute">
    <origin
      xyz="0.051996 -0.00027708 0"
      rpy="0 0 0.085664" />
    <parent
      link="r_thumb_Link2" />
    <child
      link="r_thumb_Link3" />
    <axis
      xyz="0 0 1" />
    <limit
      lower="0"
      upper="1.4"
      effort="0"
      velocity="0" />
  </joint>
  <link
    name="r_thumb_Link4">
    <inertial>
      <origin
        xyz="0.0113402975536753 -0.00167951537757316 -0.000220343706938492"
        rpy="0 0 0" />
      <mass
        value="0.00286573032693069" />
      <inertia
        ixx="1.43012911875507E-07"
        ixy="1.9882460563681E-08"
        ixz="-6.94751166097923E-09"
        iyy="2.98332128482096E-07"
        iyz="5.48888145330615E-10"
        izz="2.23344603316087E-07" />
    </inertial>
    <visual>
      <origin
        xyz="0 0 0"
        rpy="0 0 0" />
      <geometry>
        <mesh
          filename="../meshes/r_thumb_Link4.STL" />
      </geometry>
      <material
        name="">
        <color
          rgba="0.792156862745098 0.819607843137255 0.933333333333333 1" />
      </material>
    </visual>
    <collision>
      <origin
        xyz="0 0 0"
        rpy="0 0 0" />
      <geometry>
        <mesh
          filename="../meshes/r_thumb_Link4.STL" />
      </geometry>
    </collision>
  </link>
  <joint
    name="thumb_joint_Link_r4"
    type="revolute">
    <origin
      xyz="0.026928 -0.0076747 0"
      rpy="0 0 0" />
    <parent
      link="r_thumb_Link3" />
    <child
      link="r_thumb_Link4" />
    <axis
      xyz="0 0 1" />
    <limit
      lower="0"
      upper="1.4"
      effort="0"
      velocity="0" />
  </joint>
  <link
    name="r_thumb_Link5">
    <inertial>
      <origin
        xyz="0.00181856047878773 -0.00401847227149434 -1.87882201413414E-06"
        rpy="0 0 0" />
      <mass
        value="0.00045076154121877" />
      <inertia
        ixx="1.88774181020804E-08"
        ixy="1.04240558774843E-08"
        ixz="4.26986738421168E-12"
        iyy="2.21670697484524E-08"
        iyz="-4.65019752884925E-12"
        izz="2.55261490684192E-08" />
    </inertial>
    <visual>
      <origin
        xyz="0 0 0"
        rpy="0 0 0" />
      <geometry>
        <mesh
          filename="../meshes/r_thumb_Link5.STL" />
      </geometry>
      <material
        name="">
        <color
          rgba="0.792156862745098 0.819607843137255 0.933333333333333 1" />
      </material>
    </visual>

    <!-- Add fingertip sphere -->
    <visual>
      <origin xyz="0 0 0" rpy="0 0 0" /> <!-- Positioning the sphere slightly from the tip -->
      <geometry>
        <sphere radius="0.005" /> <!-- Radius of the sphere, 5mm -->
      </geometry>
      <material name="red">
        <color rgba="1 0 0 1" /> <!-- Red color for the fingertip -->
      </material>
    </visual>
    
    <collision>
      <origin
        xyz="0 0 0"
        rpy="0 0 0" />
      <geometry>
        <mesh
          filename="../meshes/r_thumb_Link5.STL" />
      </geometry>
    </collision>
  </link>
  <joint
    name="thumb_joint_Link_r5"
    type="fixed">
    <origin
      xyz="0.015969 0.0093937 0"
      rpy="0 0 0" />
    <parent
      link="r_thumb_Link4" />
    <child
      link="r_thumb_Link5" />
    <axis
      xyz="0 0 0" />
  </joint>









</robot>
